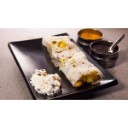dosa: (41, 34, 102, 86)
